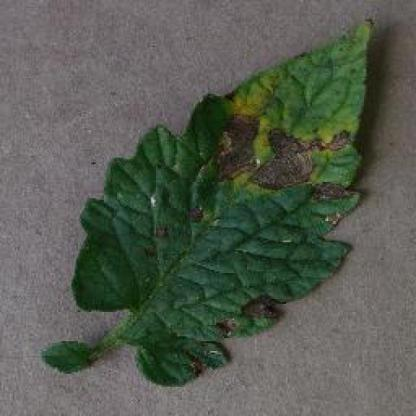Tomato_Blight: (43, 18, 380, 387)
